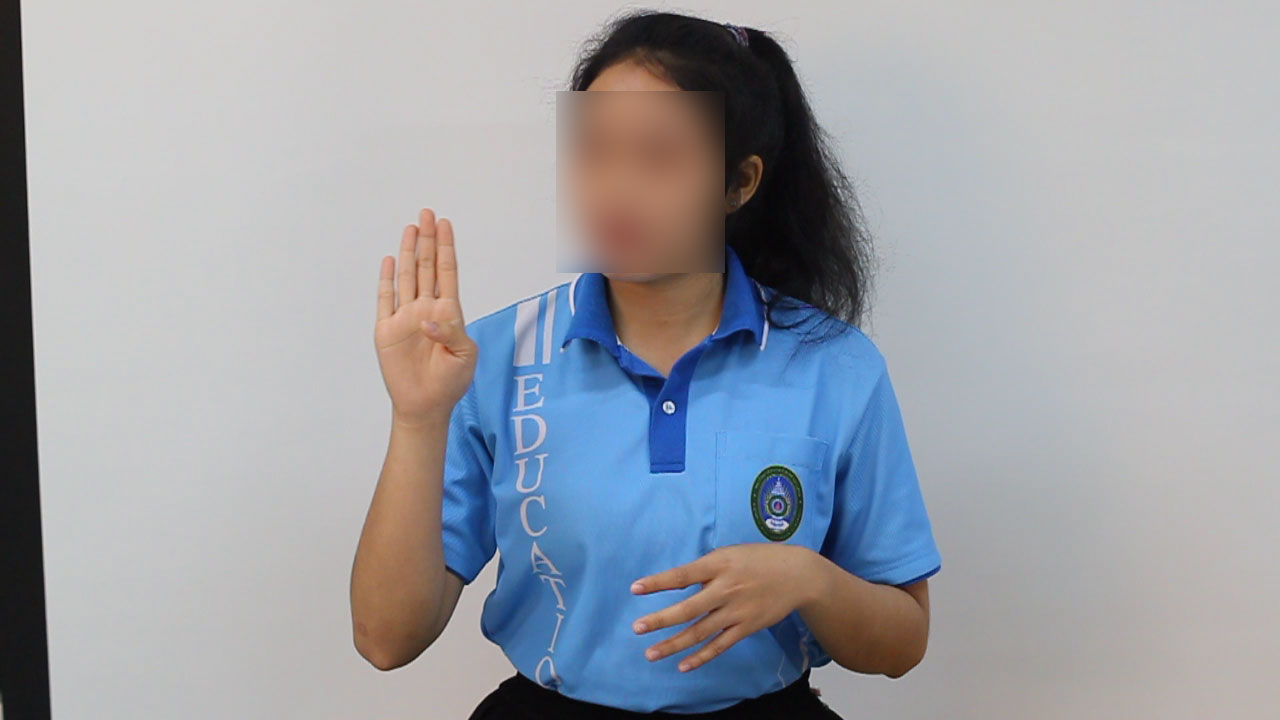bor: (355, 199, 497, 452)
